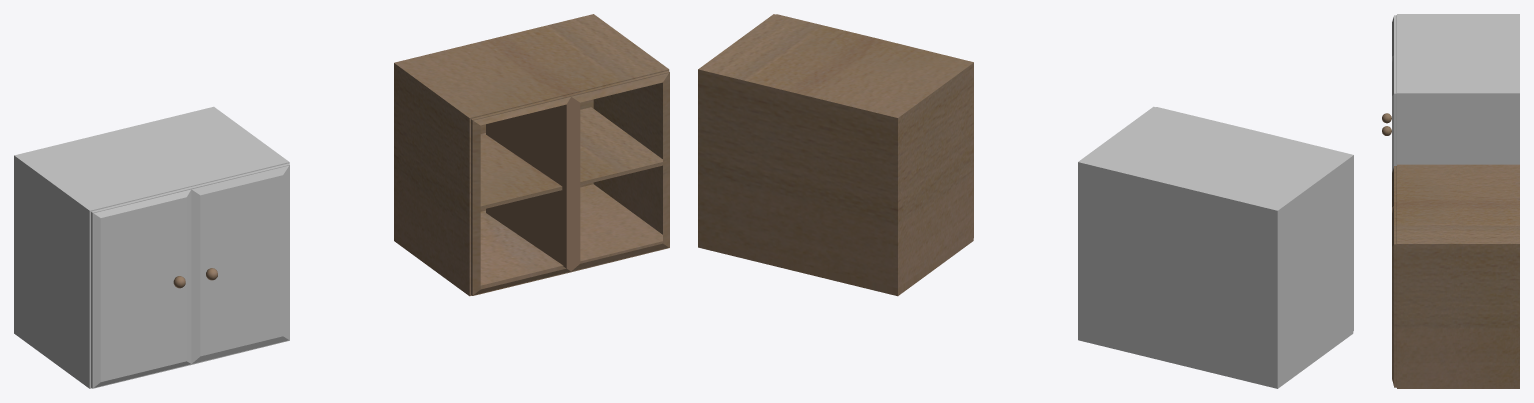
The model's file is MuebleCocina.fbx.
3 renders of one model, left to right at view 1: azimuth 30°, elevation 25°; view 2: azimuth 150°, elevation 25°; view 3: azimuth 270°, elevation 25°, orthographic. The views are drawn at different scales.
Parts seen in each view (by area): view 1: Cube, Cube.001, Cube.002; view 2: Cube, Cube.001; view 3: Cube.001, Cube.
Part boxes in pixels (x1,y1,x2,y2): Cube: (14, 106, 289, 388); Cube.001: (394, 14, 669, 296); Cube.002: (480, 107, 662, 209); Cube: (1078, 106, 1353, 388); Cube.001: (698, 14, 973, 296); Cube.001: (1392, 164, 1519, 388); Cube: (1392, 14, 1519, 172).
Bounding box in the file's own units: 681 × 200 × 173.
